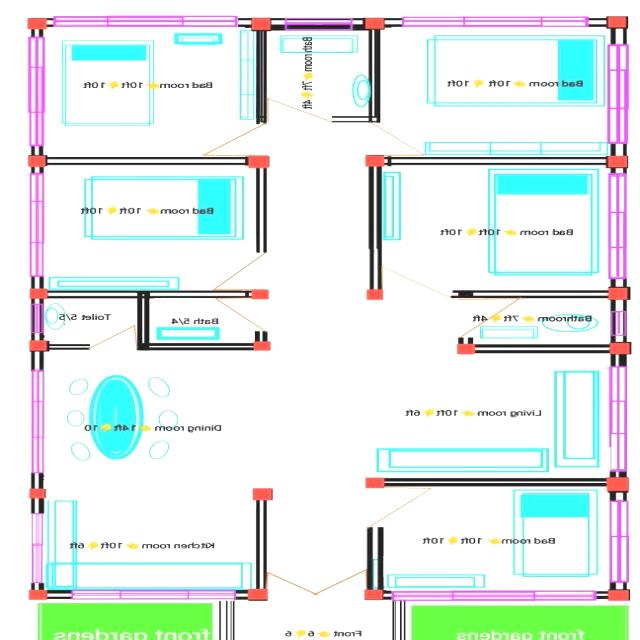Blueprint: (22, 11, 635, 604)
column: (596, 474, 638, 494), (603, 282, 639, 304), (600, 12, 636, 32), (248, 484, 280, 506), (21, 584, 56, 604), (21, 152, 54, 172), (602, 339, 635, 359), (446, 340, 479, 360), (358, 585, 391, 605), (605, 586, 638, 606), (598, 152, 634, 170), (244, 286, 280, 304), (238, 587, 274, 605), (245, 13, 277, 33), (24, 338, 56, 358), (21, 15, 55, 33), (358, 286, 392, 304), (358, 474, 392, 492), (245, 338, 278, 356), (243, 152, 275, 170), (358, 15, 390, 32), (26, 484, 53, 504), (23, 286, 52, 304), (361, 152, 389, 170)
wall: (379, 475, 612, 489), (40, 154, 254, 168), (364, 164, 386, 291), (380, 154, 612, 166), (44, 287, 252, 299), (450, 288, 614, 302), (250, 496, 272, 594), (252, 27, 270, 127), (470, 342, 615, 354), (366, 28, 384, 124), (363, 525, 388, 592), (132, 340, 260, 353), (252, 164, 270, 254), (134, 286, 152, 354), (40, 341, 96, 352), (26, 348, 48, 374), (28, 495, 50, 516), (42, 588, 74, 602), (328, 115, 384, 123), (26, 470, 46, 492), (230, 588, 254, 602), (607, 580, 631, 594), (26, 580, 48, 594)
